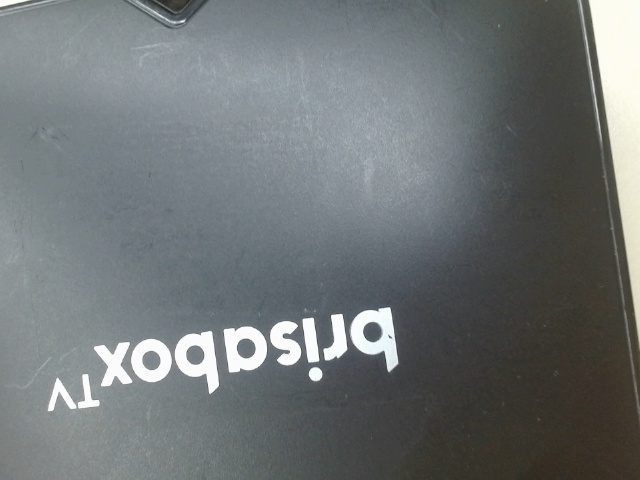AH_brisabox: (30, 302, 419, 417)
